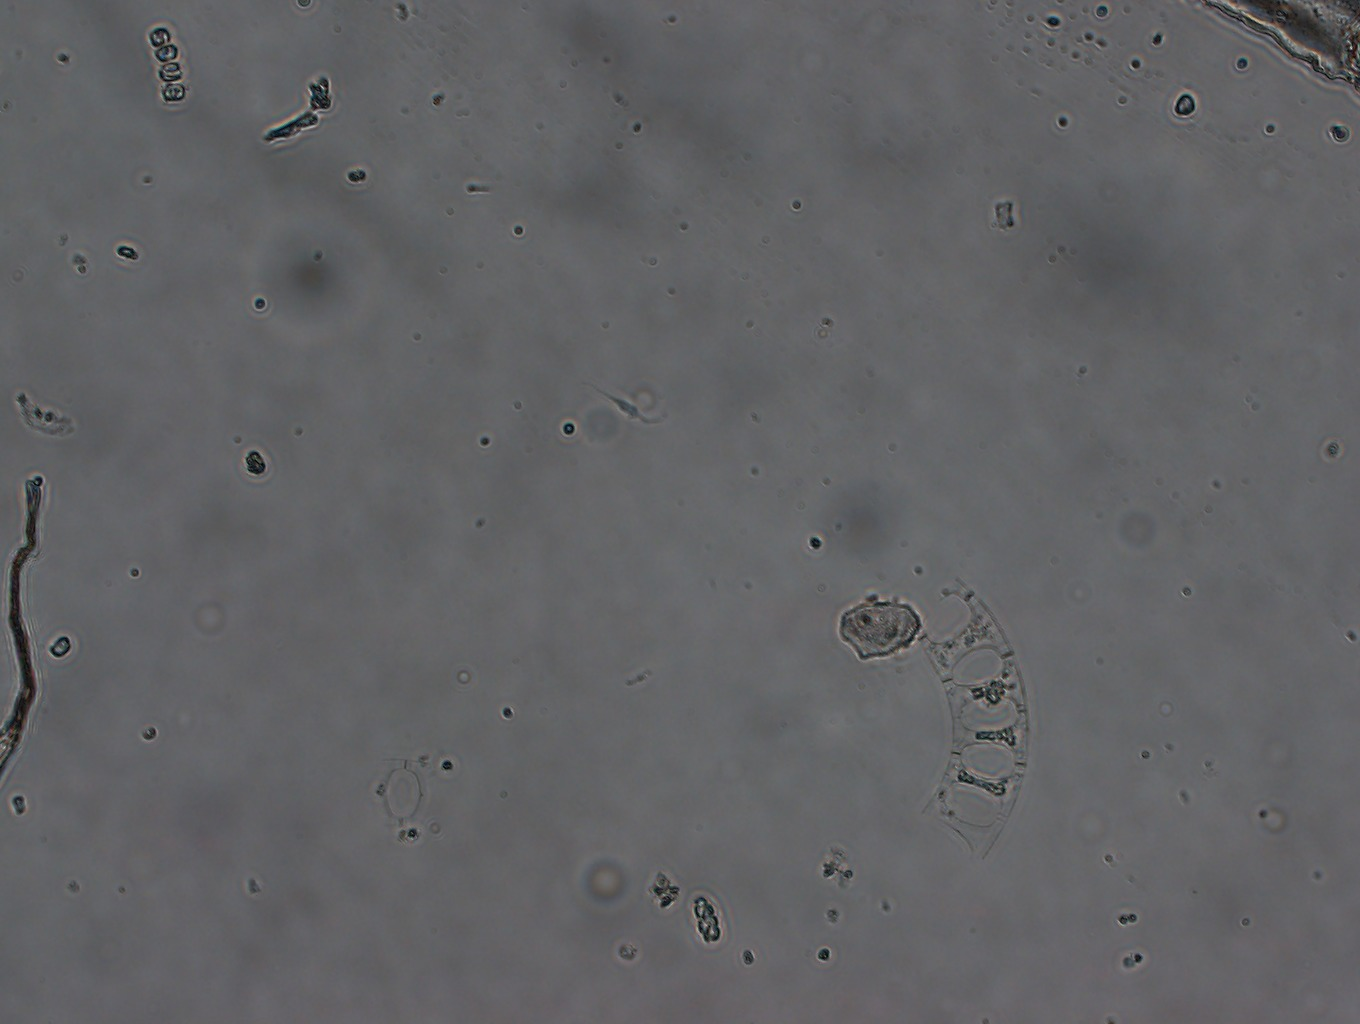eucampia: (902, 575, 1042, 878)
skeletonema: (130, 20, 196, 116)
